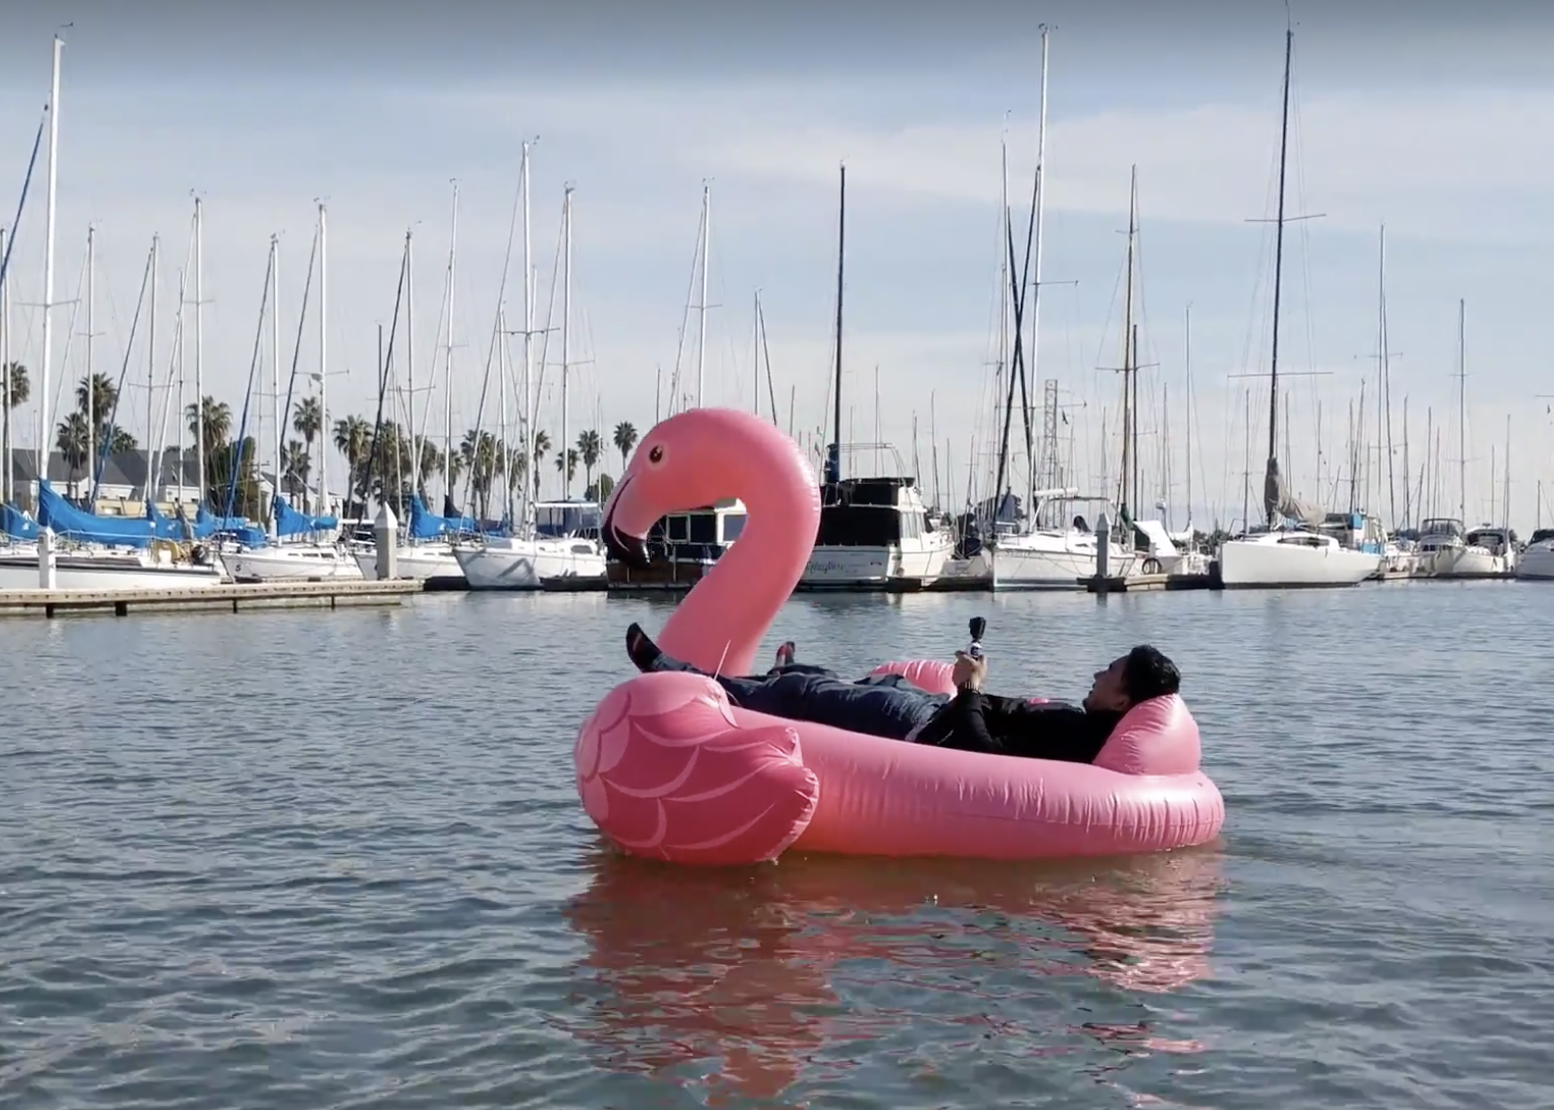Flamingo: (570, 404, 1235, 887)
